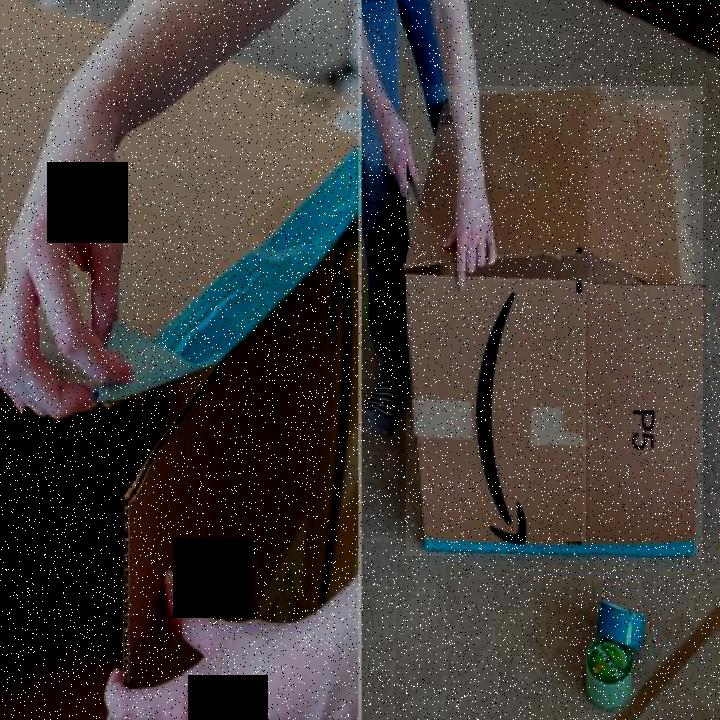box: (1, 0, 358, 718), (406, 86, 703, 556)
